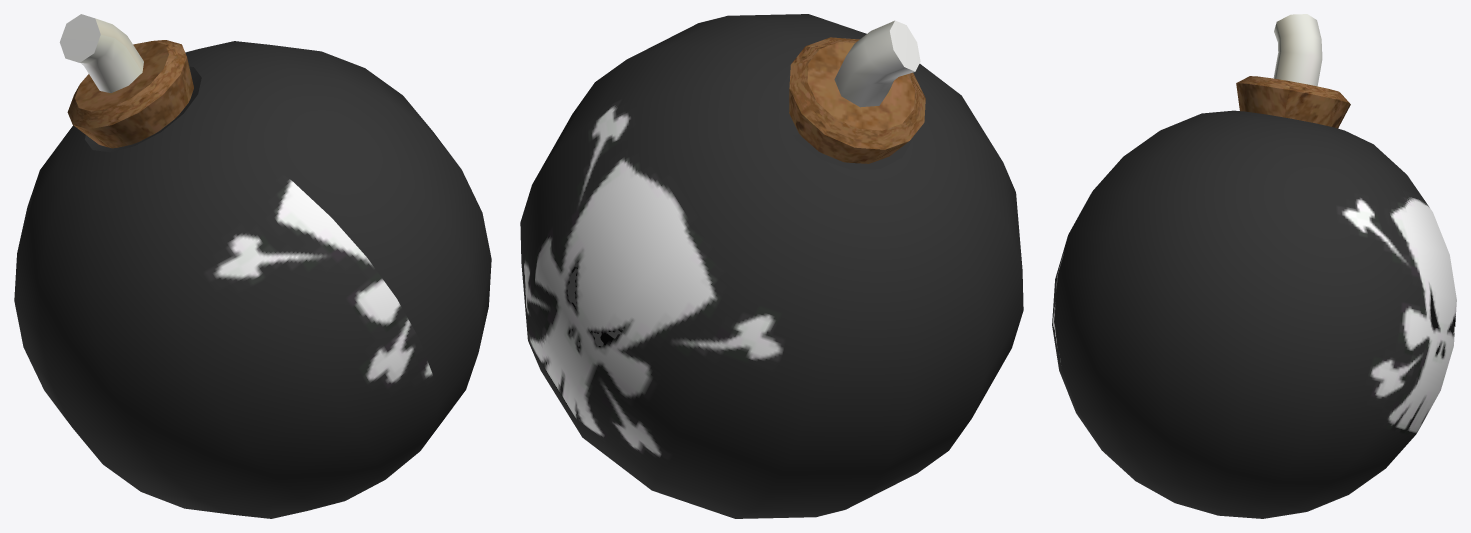
Rendered from bomb.glb.
The picture shows the model from 3 angles, left to right: view 1: azimuth 30°, elevation 25°; view 2: azimuth 150°, elevation 25°; view 3: azimuth 270°, elevation 25°; orthographic projection. The views are drawn at different scales.
Parts seen in each view (by area): view 1: node_id82; view 2: node_id82; view 3: node_id82.
Part boxes in pixels (<box>): node_id82: <box>14,14,491,518</box>; node_id82: <box>520,14,1023,518</box>; node_id82: <box>1052,14,1456,518</box>.
Size of the model in its own units: 0.4476 by 0.512 by 0.4398.
1 material, 1 textured.
